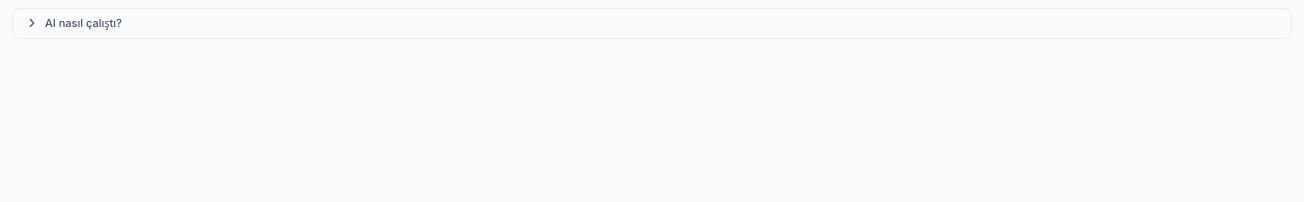
AiExplainPanel › renders friendly tool labels + row counts from a real response
The width and height of the screenshot is (1304, 202).
Click the button "AI nasıl çalıştı?". click: (83, 23)
box: [13,9,1291,38]
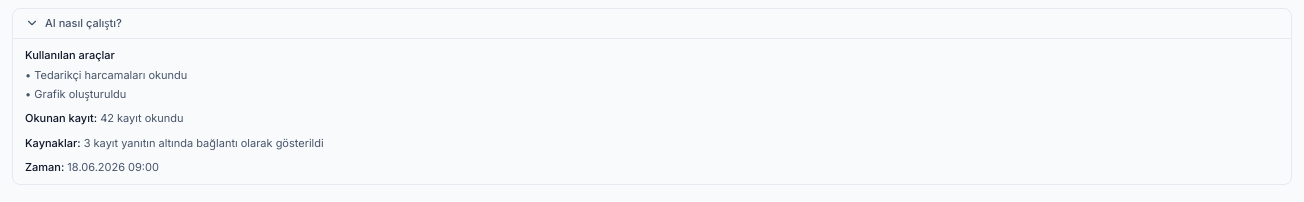
Result: the text "Tedarikçi harcamaları okundu" is shown at [34,68,187,82]
Result: the text "Grafik oluşturuldu" is shown at [34,86,126,100]
Result: the text "42 kayıt okundu" is shown at [25,111,184,125]
